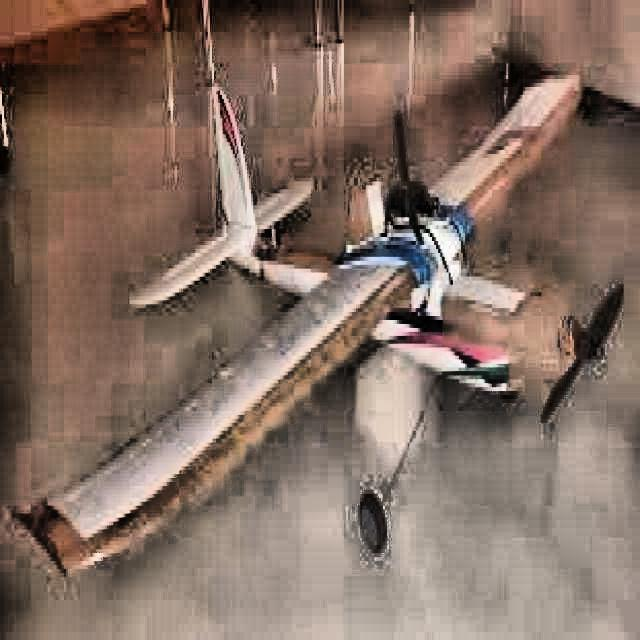iha: (10, 42, 640, 584)
